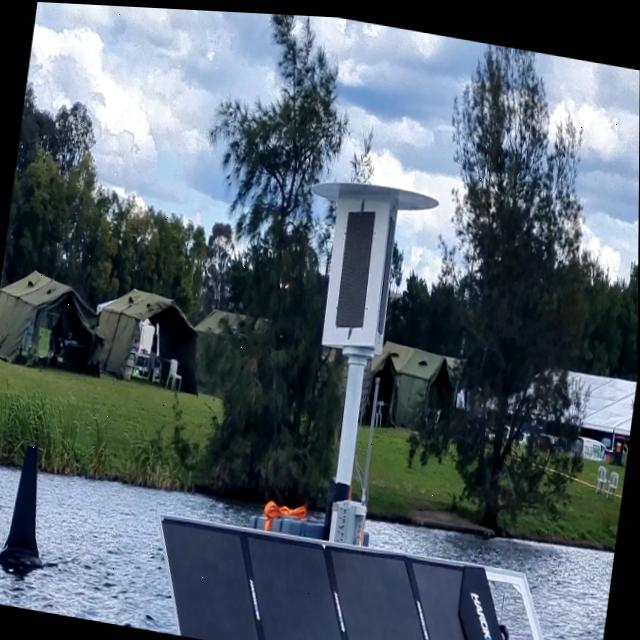led: (329, 197, 386, 327)
